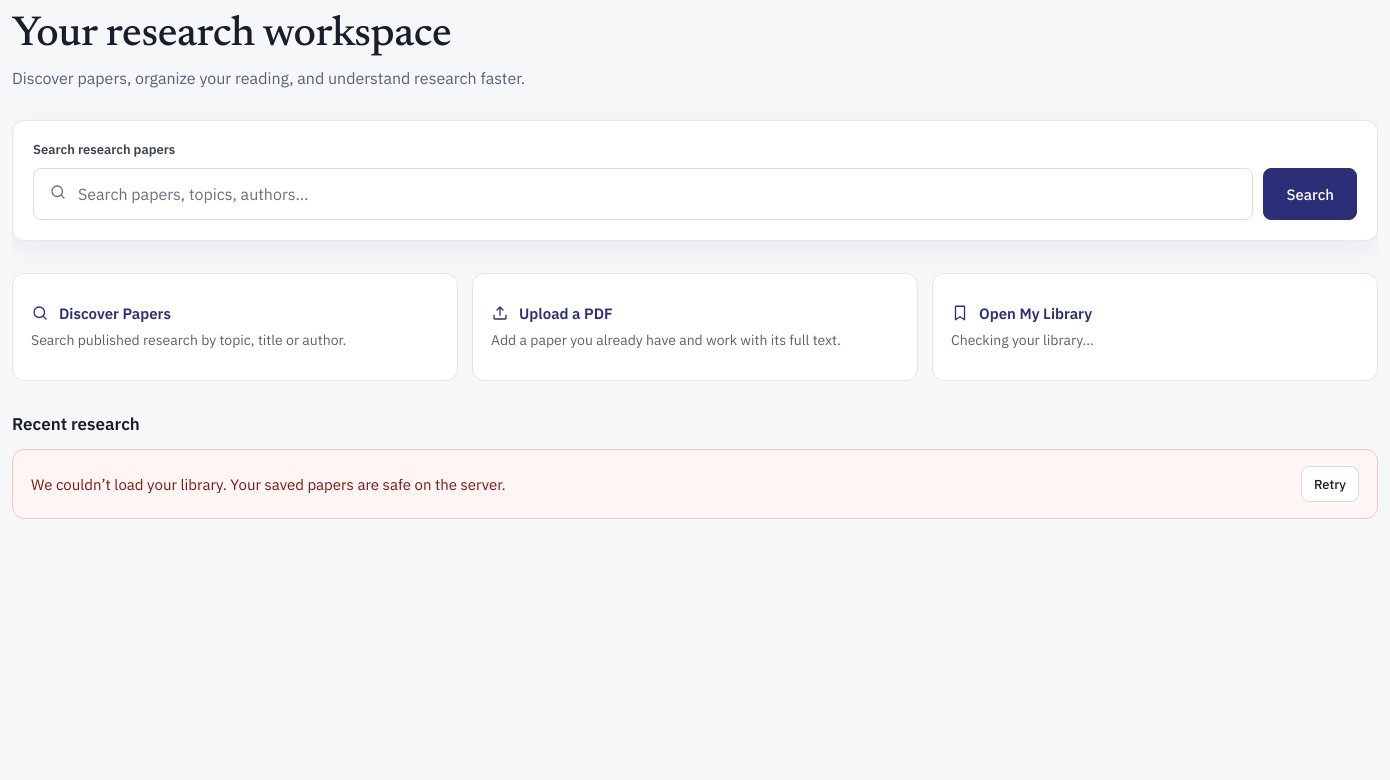
Test case: HomePage (round 1: page had 0% coverage) › shows a retryable error and loads again when Retry is pressed
This screenshot has width=1390, height=780.
Expected: the text "couldn’t load your library" is shown, [31, 475, 506, 494]
Click the button "Retry": (1330, 484) [1301, 466, 1359, 502]
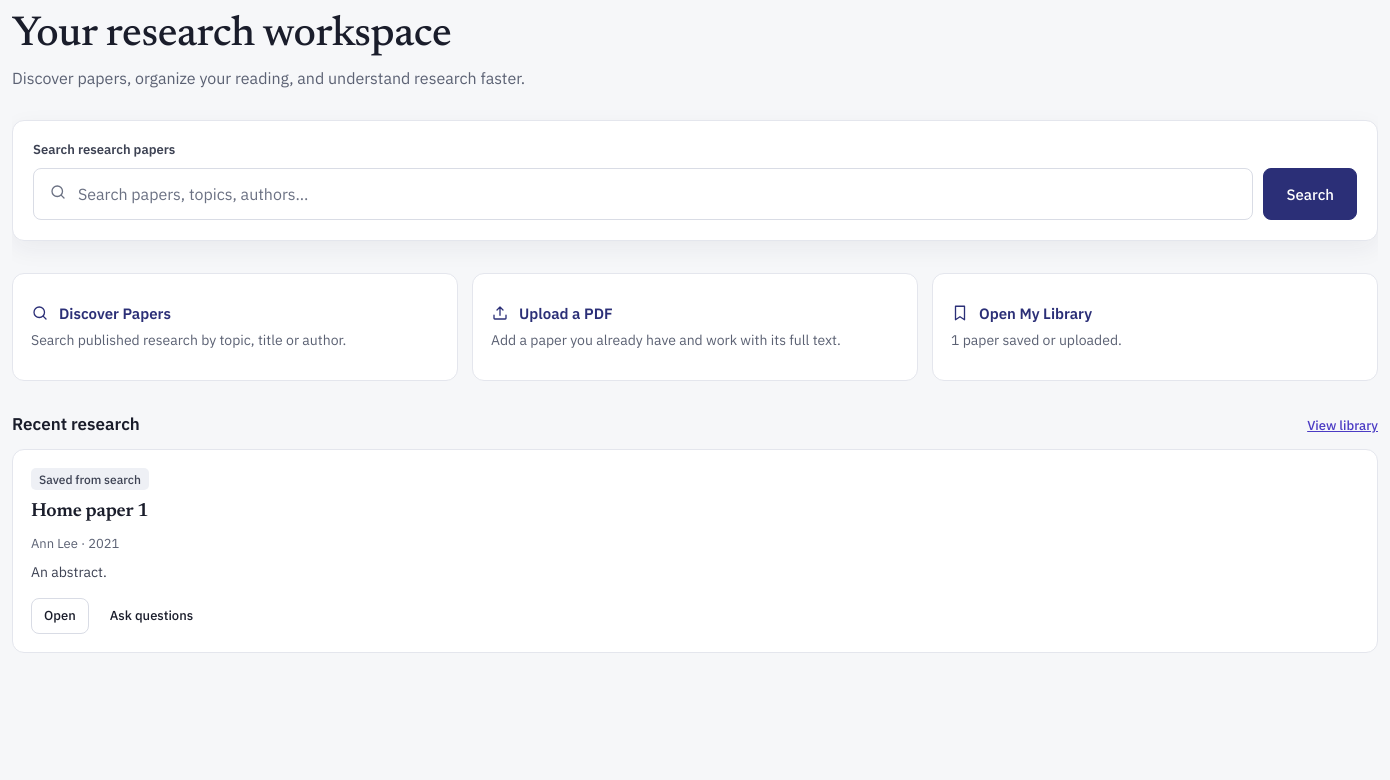
Result: the heading "Home paper 1" is shown at [31, 502, 148, 521]
